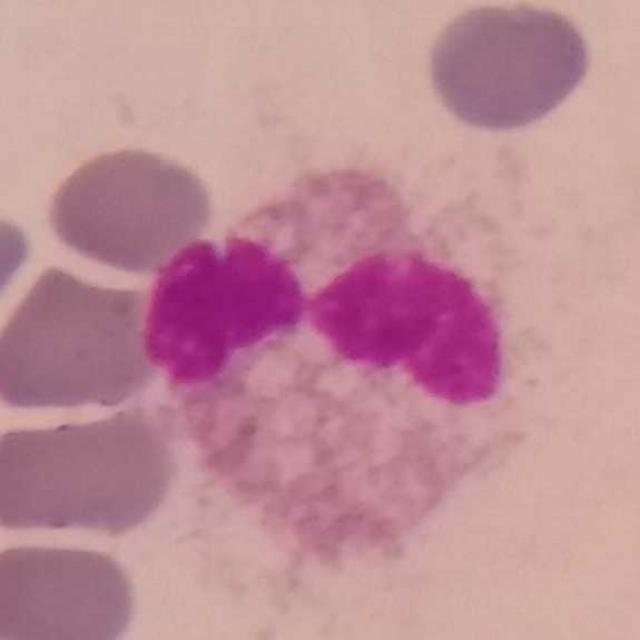Eosinophil: (142, 165, 524, 567)
RBC: (0, 255, 164, 421), (0, 400, 185, 543), (420, 0, 598, 138), (41, 140, 219, 275), (0, 531, 144, 640), (0, 202, 37, 350)
